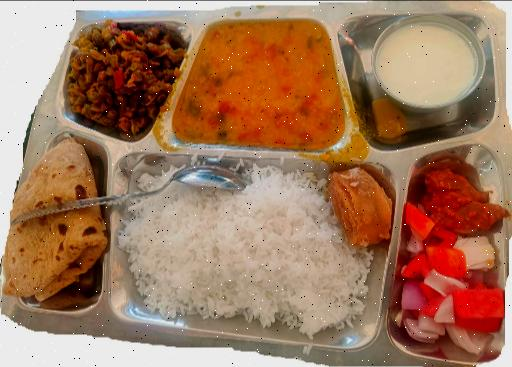Curd: (366, 15, 490, 116)
Dal: (190, 17, 341, 143)
Pickle: (411, 156, 508, 224)
Rice: (120, 159, 372, 330)
Roti: (3, 138, 106, 310)
Sweet: (318, 165, 392, 245)
Vegetable: (66, 24, 184, 134), (403, 227, 502, 344)
